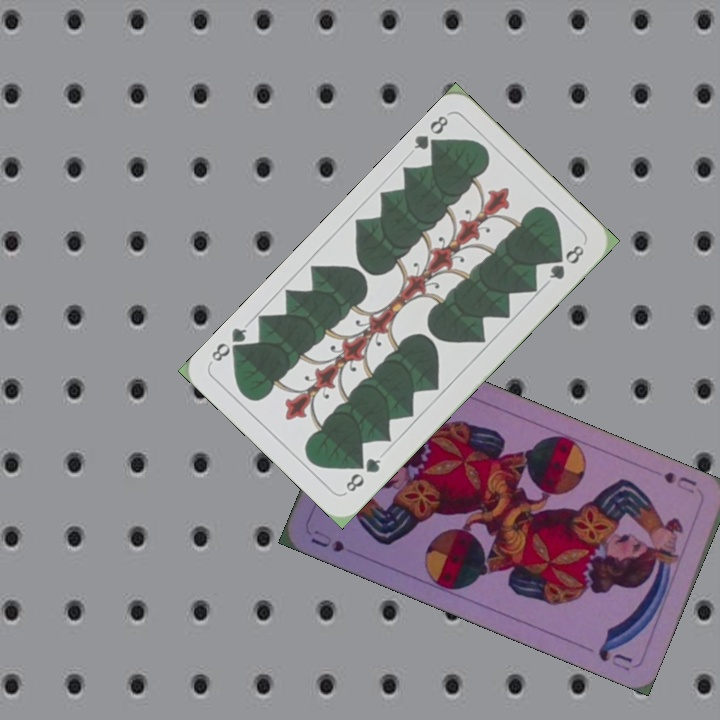G8: (409, 111, 451, 156), (341, 454, 384, 495)
SU: (306, 526, 348, 555), (659, 467, 700, 489)
